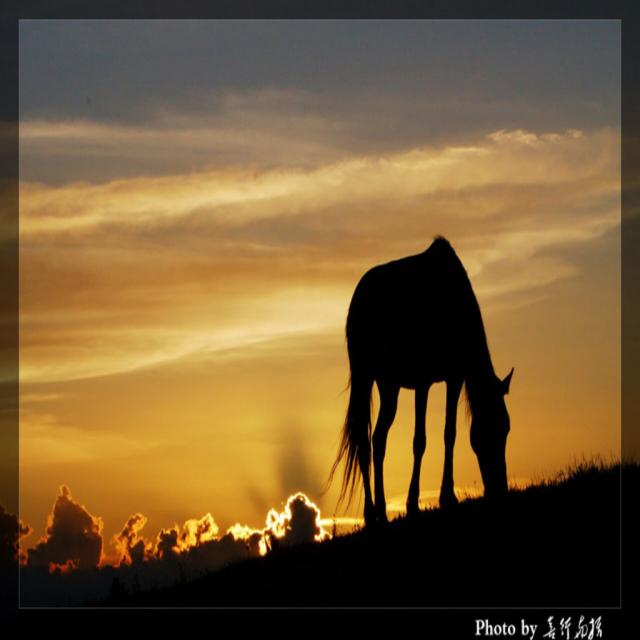Horse: (314, 234, 514, 527)
